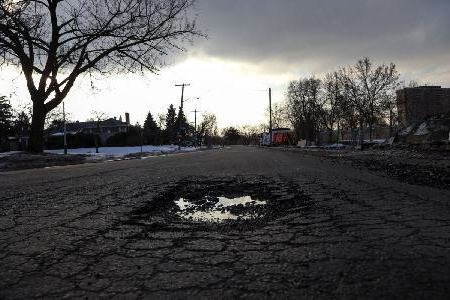pothole: (132, 179, 293, 233)
